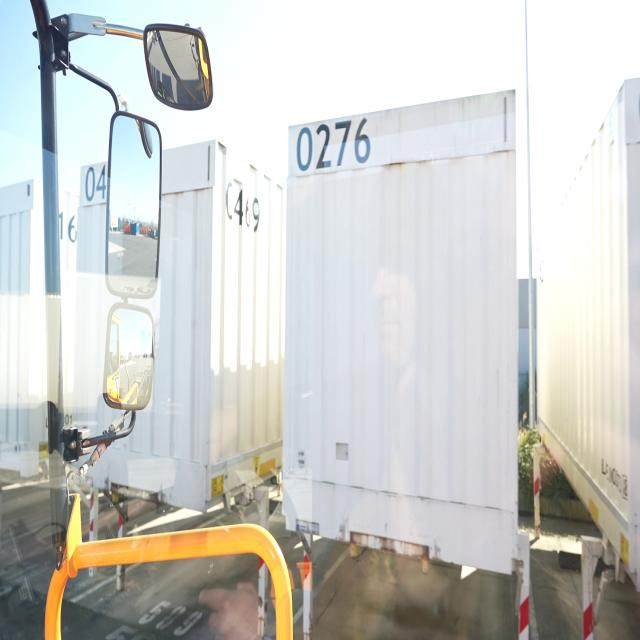Code: (292, 104, 376, 178)
